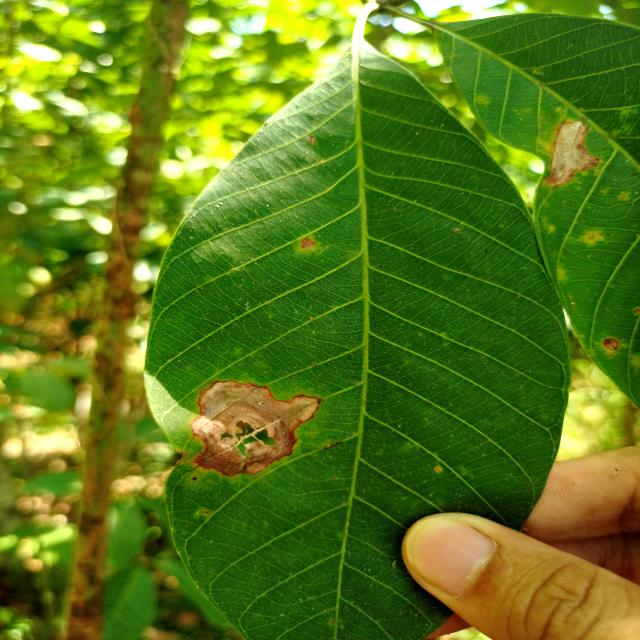Colletotrichum: (603, 338, 618, 351)
Leaf-Blight: (190, 381, 319, 476), (545, 120, 599, 189), (300, 238, 316, 249)
